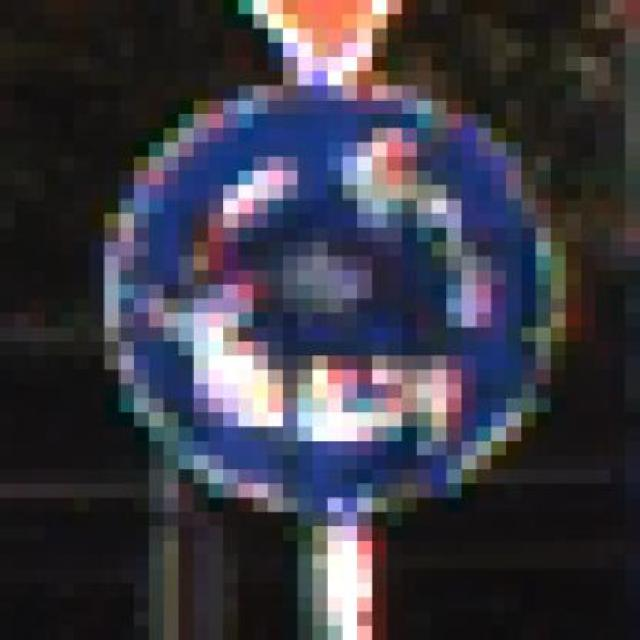Round-About: (45, 56, 610, 541)
